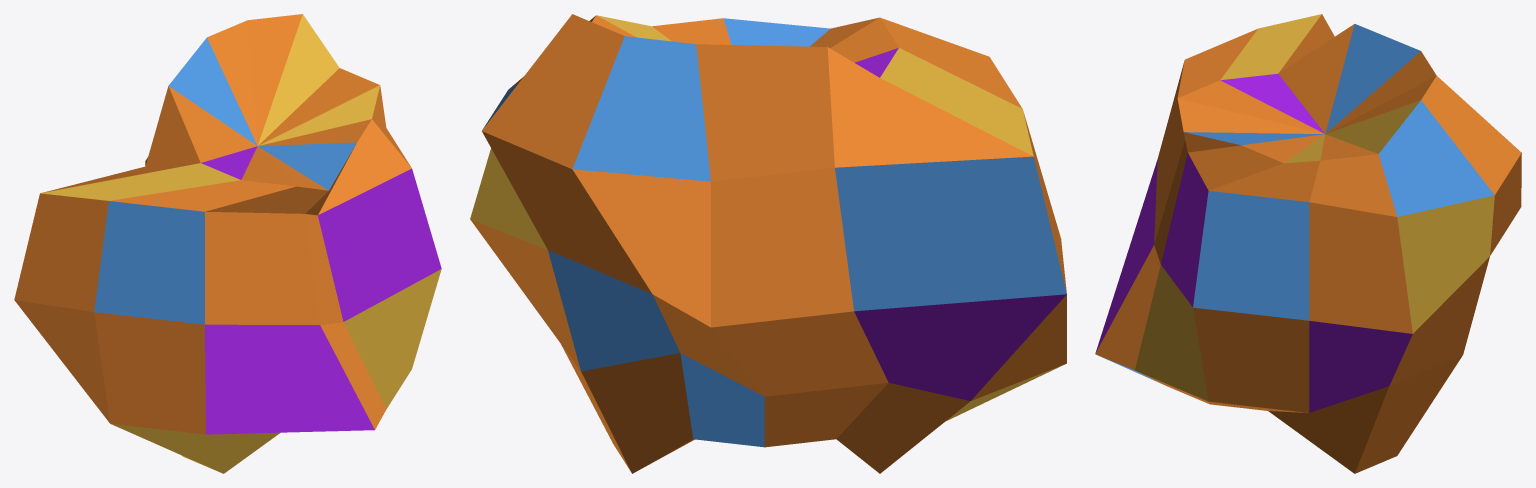
Rendered from geode.glb.
The picture shows the model from 3 angles, left to right: view 1: azimuth 30°, elevation 25°; view 2: azimuth 150°, elevation 25°; view 3: azimuth 270°, elevation 25°; orthographic projection. The views are drawn at different scales.
Parts seen in each view (by area): view 1: Sphere; view 2: Sphere; view 3: Sphere.
Boxes of the visible parts, x1,y1,x2,y2 form: Sphere: [14, 14, 441, 473]; Sphere: [470, 14, 1066, 473]; Sphere: [1095, 14, 1521, 473].
Size of the model in its own units: 2.18 by 1.77 by 1.83.
